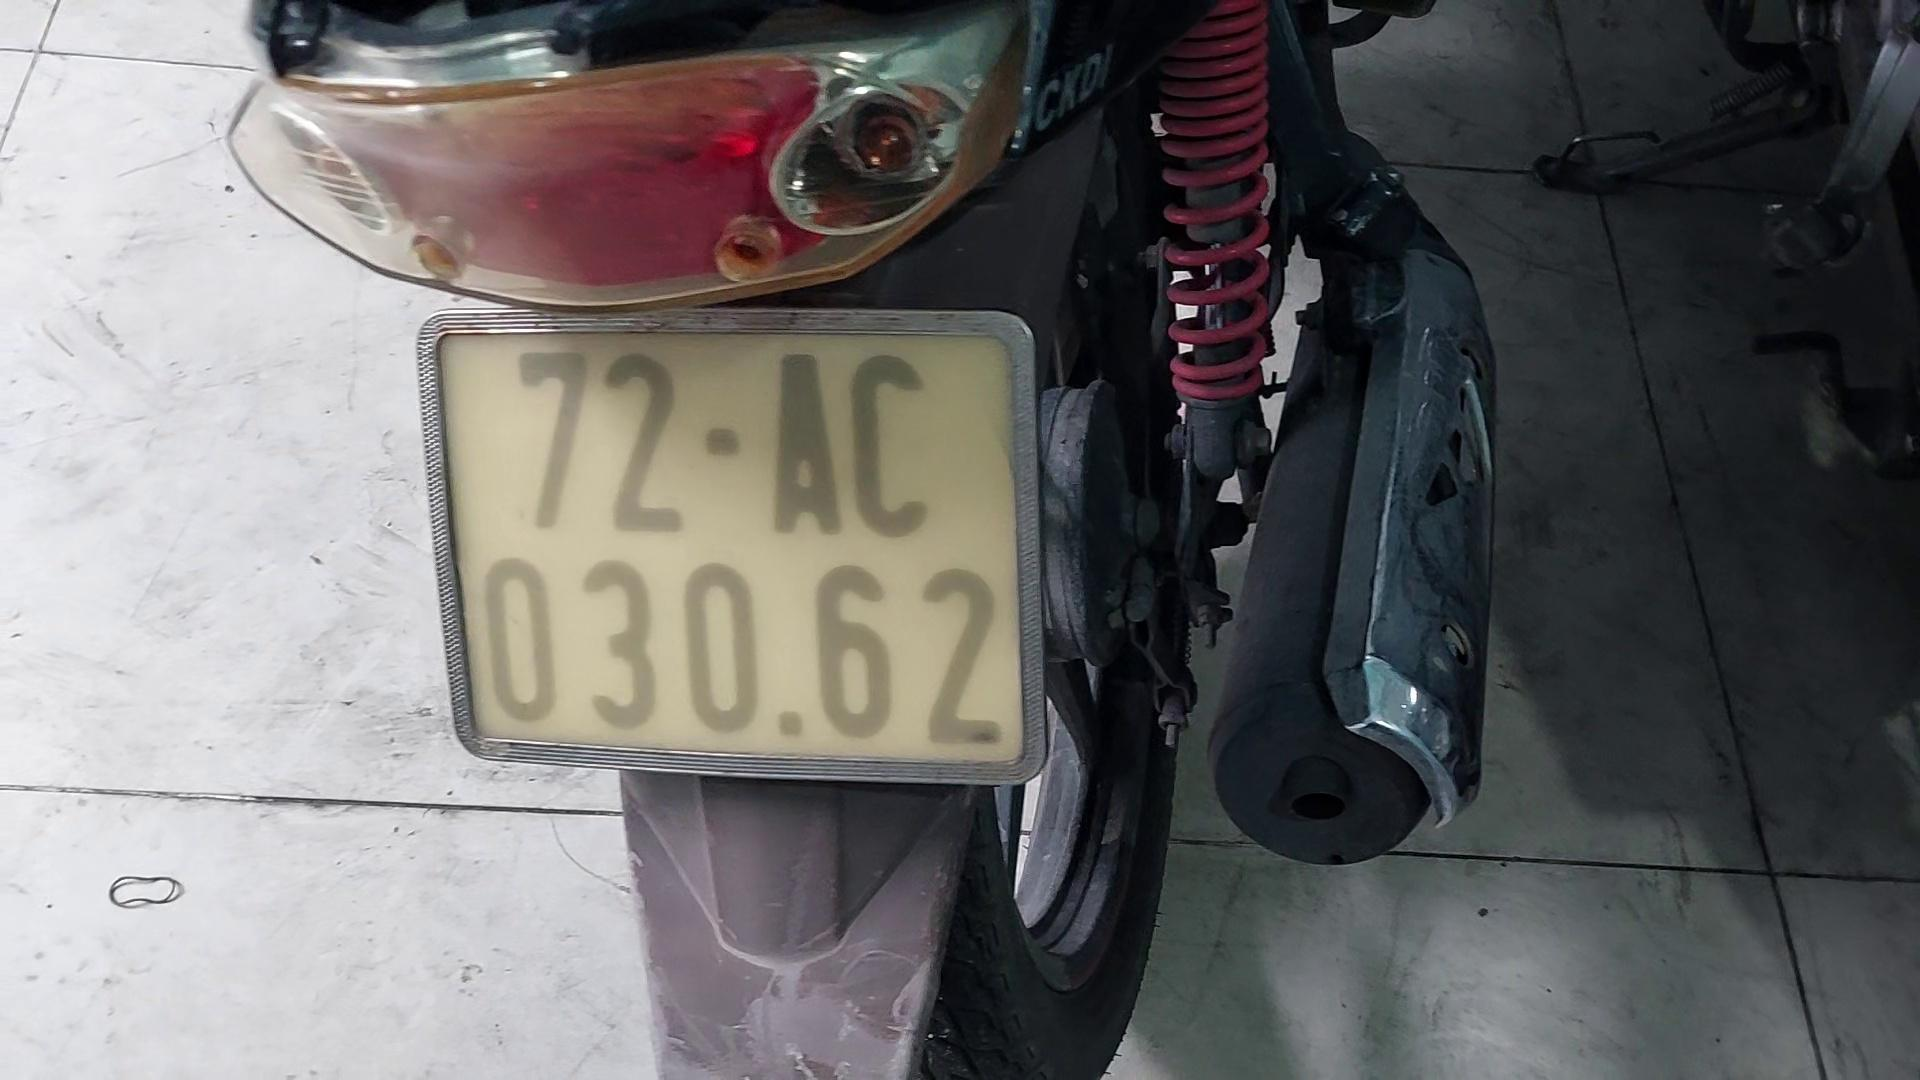numplate: (427, 330, 1037, 760)
